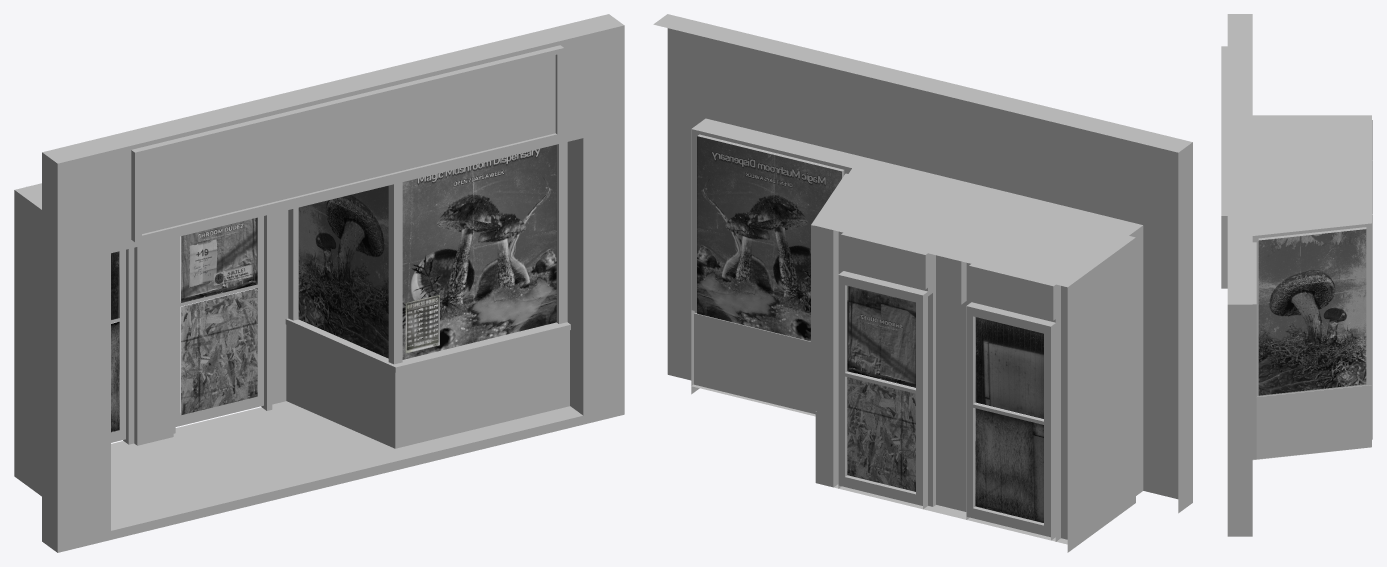
File: shrooms.fbx
3 renders of one model, left to right at view 1: azimuth 30°, elevation 25°; view 2: azimuth 150°, elevation 25°; view 3: azimuth 270°, elevation 25°, orthographic. The views are drawn at different scales.
Parts seen in each view (by area): view 1: storefront, front_door; view 2: storefront, front_door; view 3: storefront.
Part boxes in pixels (<box>): storefront: <box>14,14,624,552</box>; front_door: <box>175,216,263,426</box>; storefront: <box>653,14,1192,552</box>; front_door: <box>838,275,925,505</box>; storefront: <box>1221,14,1372,536</box>.
Bounding box in the file's own units: 556 × 365 × 159.
